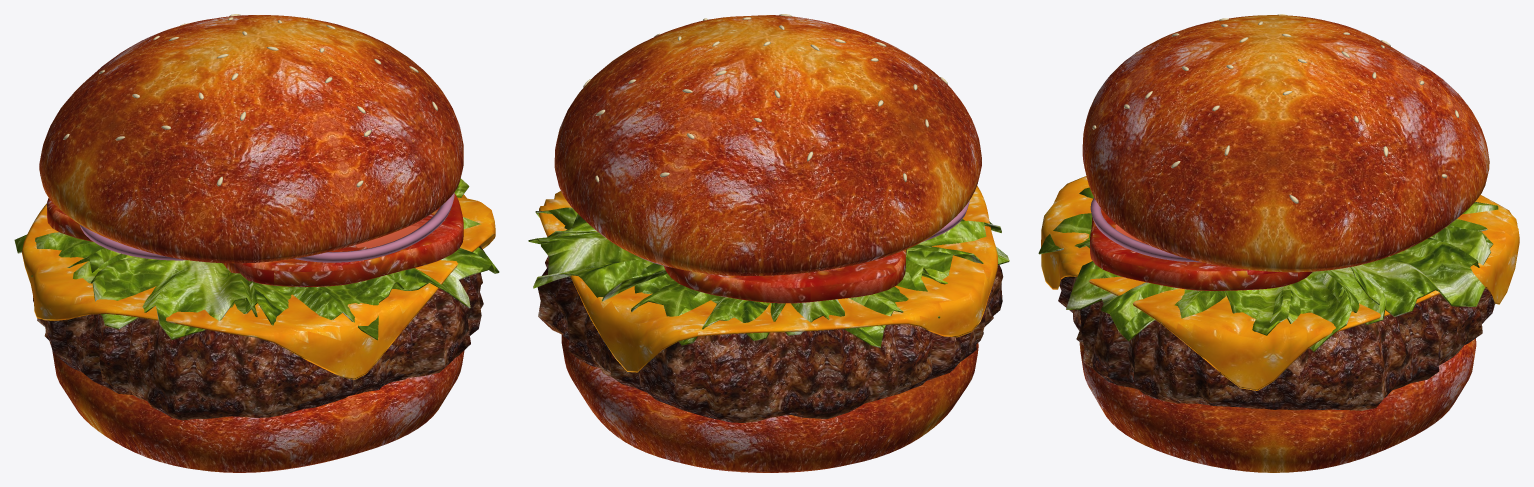
File: burger-da-casa.glb
3 renders of one model, left to right at view 1: azimuth 30°, elevation 25°; view 2: azimuth 150°, elevation 25°; view 3: azimuth 270°, elevation 25°, orthographic.
Visible parts, largest first — view 1: Pao_inferior_tostado001, Carne_prensada_na_chapa001, Queijo_fundido_sobre_a_carne001, Alface_crespa_1, Tomate_maduro_fatiado, Cebola_roxa_em_meia-lua, Gergelim_na_crosta001; view 2: Pao_inferior_tostado001, Carne_prensada_na_chapa001, Queijo_fundido_sobre_a_carne001, Alface_crespa_1, Tomate_maduro_fatiado, Gergelim_na_crosta001; view 3: Pao_inferior_tostado001, Carne_prensada_na_chapa001, Alface_crespa_1, Queijo_fundido_sobre_a_carne001, Tomate_maduro_fatiado, Cebola_roxa_em_meia-lua, Gergelim_na_crosta001.
Boxes of the visible parts, x1,y1,x2,y2 form: Pao_inferior_tostado001: (39,15,464,472); Carne_prensada_na_chapa001: (33,246,484,420); Queijo_fundido_sobre_a_carne001: (22,194,495,379); Alface_crespa_1: (14,178,499,340); Tomate_maduro_fatiado: (47,194,463,286); Cebola_roxa_em_meia-lua: (79,192,454,262); Gergelim_na_crosta001: (63,14,437,187); Pao_inferior_tostado001: (554,15,981,472); Carne_prensada_na_chapa001: (537,256,1003,422); Queijo_fundido_sobre_a_carne001: (539,185,997,372); Alface_crespa_1: (528,207,1009,347); Tomate_maduro_fatiado: (664,249,906,303); Gergelim_na_crosta001: (583,14,947,182); Pao_inferior_tostado001: (1079,15,1489,472); Carne_prensada_na_chapa001: (1058,276,1495,410); Alface_crespa_1: (1038,187,1498,351); Queijo_fundido_sobre_a_carne001: (1041,176,1519,390); Tomate_maduro_fatiado: (1090,208,1312,290); Cebola_roxa_em_meia-lua: (1090,197,1201,262); Gergelim_na_crosta001: (1092,14,1458,203).
Bounding box in the file's own units: 0.146 × 0.123 × 0.146.
8 materials, 5 textured.
